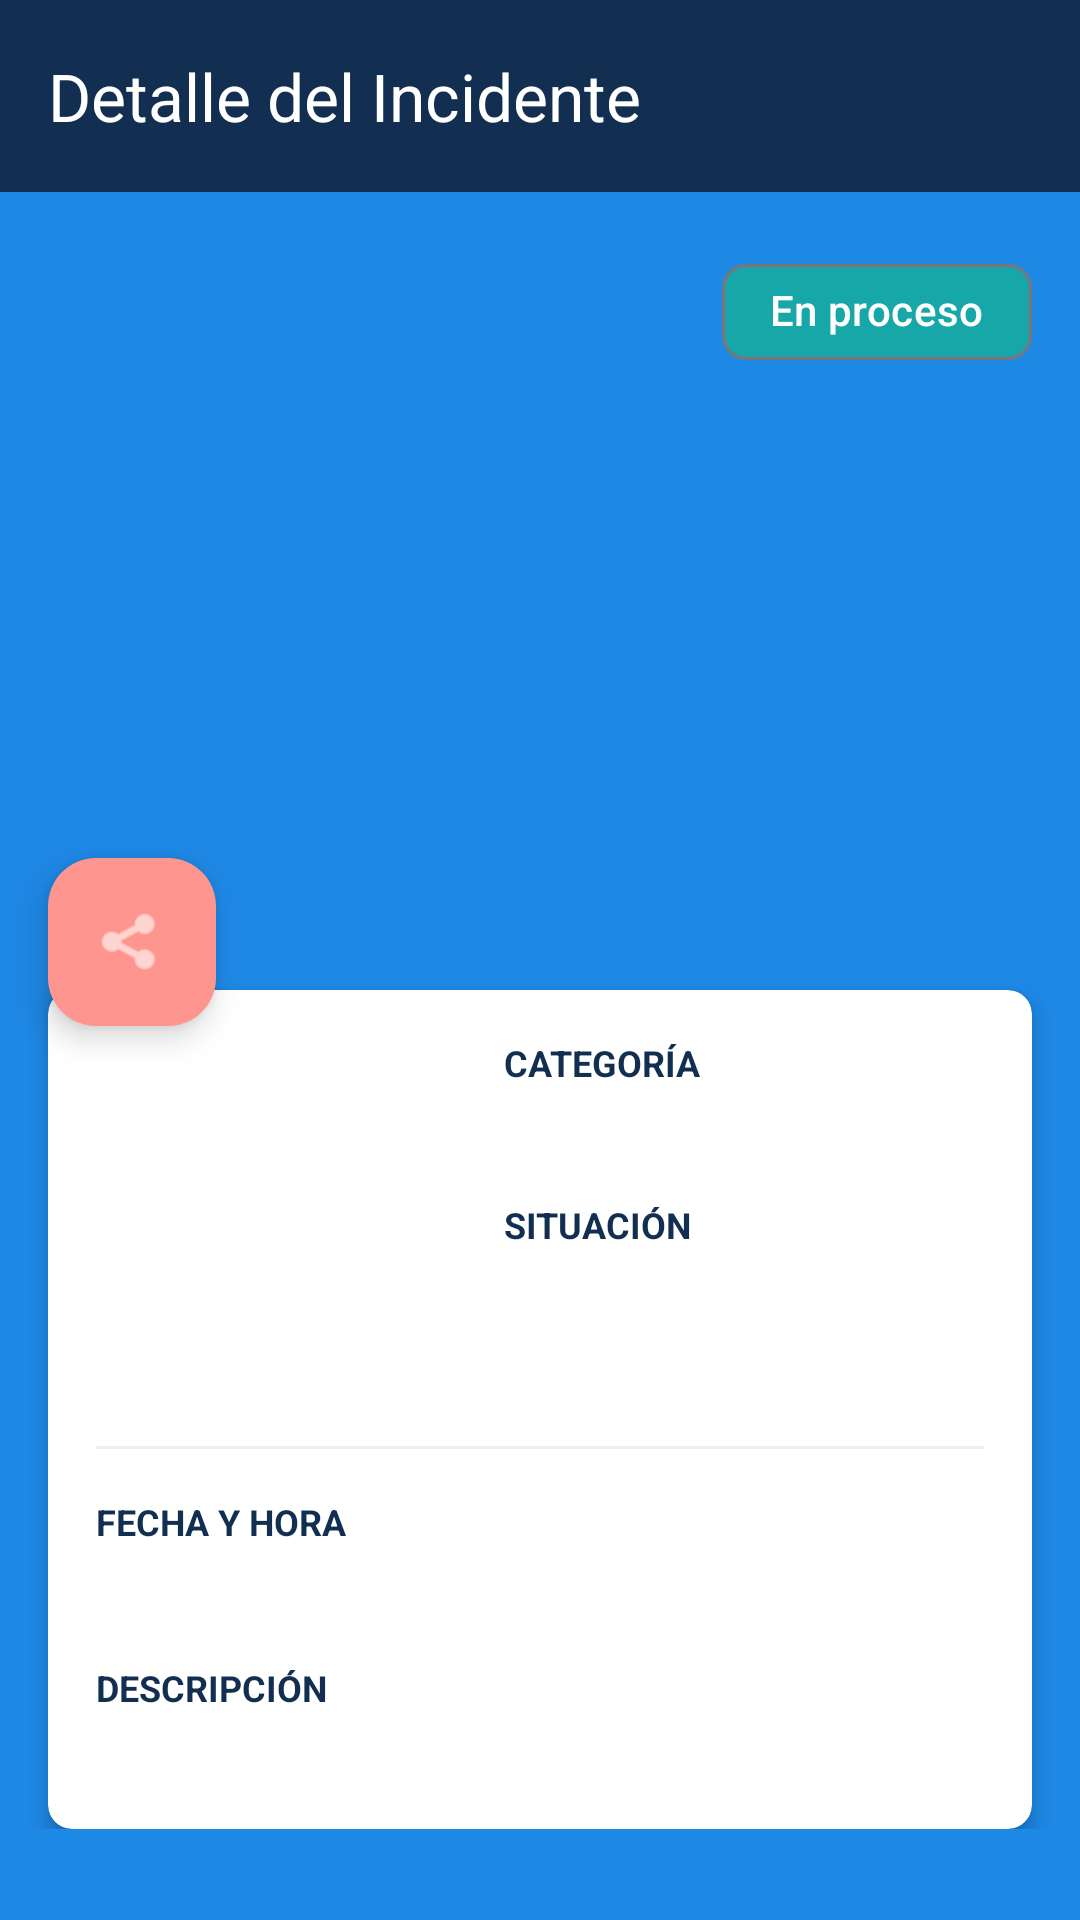

Icon bounding boxes for this 1080w x 1920h phone screenshot, format (x1, y1, x2, y2):
Compartir incidente: (48, 858, 216, 1026)
